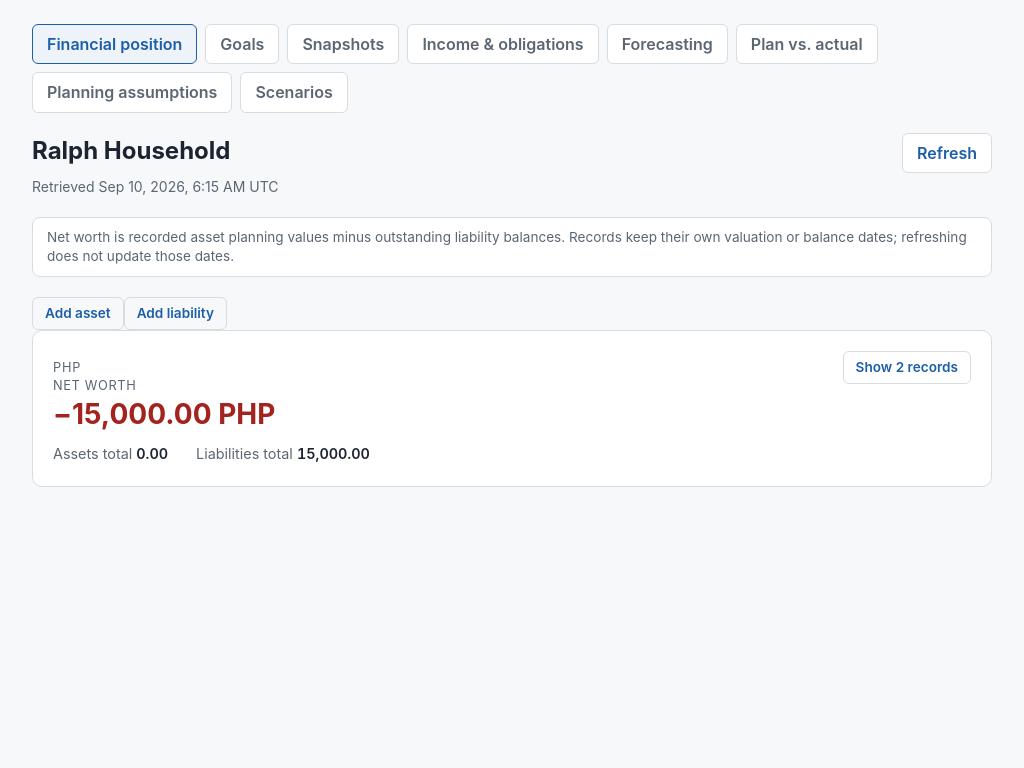
Test: populated financial position › renders a zero-valued asset row and a future-dated liability, distinct from the empty-household state
Expected: the heading "Ralph Household" is shown, left=32, top=134, right=230, bottom=167
Click the button "Show 2 records".
click(907, 367)  # box left=843, top=351, right=971, bottom=384
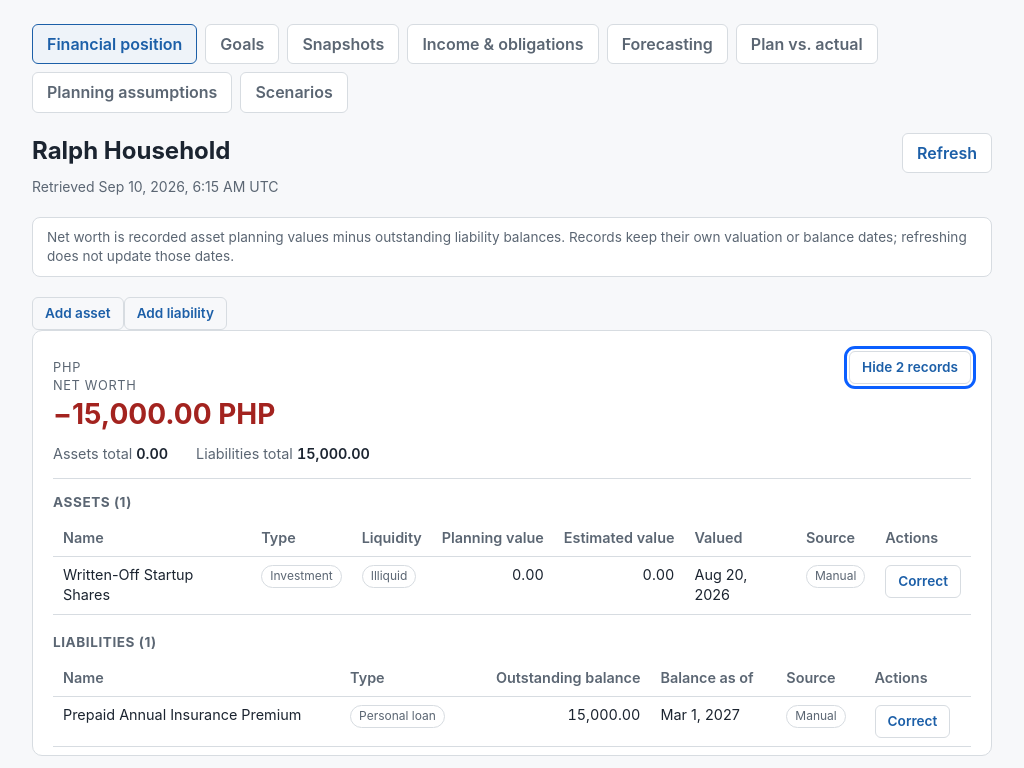
Expected: the text "Written-Off Startup Shares" is shown, left=53, top=557, right=251, bottom=614
Expected: the text "Prepaid Annual Insurance Premium" is shown, left=53, top=697, right=340, bottom=746
Expected: the text "Mar 1, 2027" is shown, left=660, top=706, right=740, bottom=723
